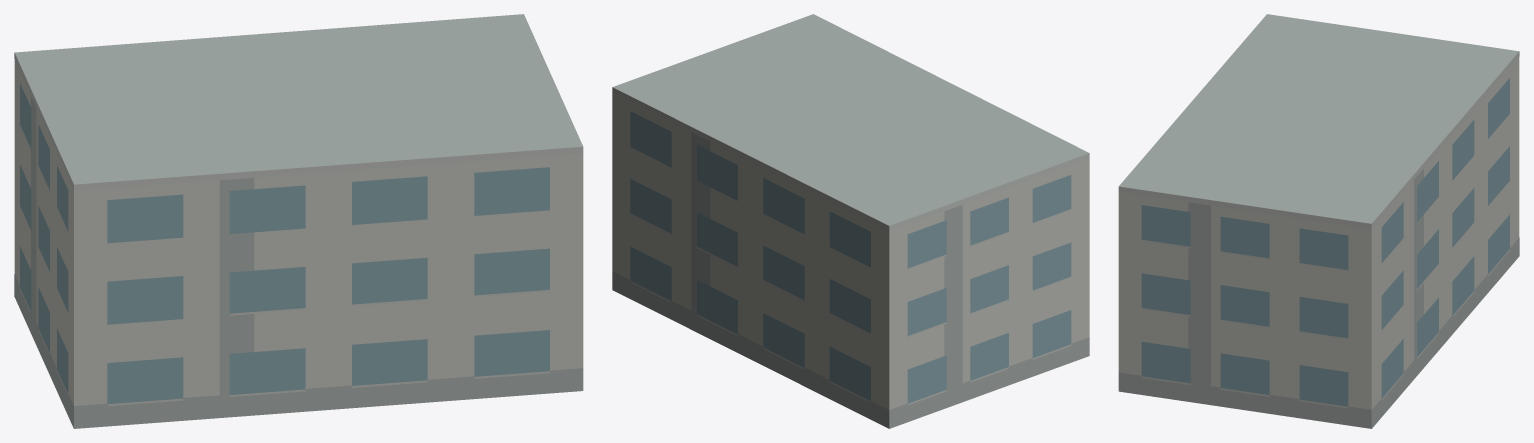
Rendered from survey-upis-33002737.glb.
The picture shows the model from 3 angles, left to right: view 1: azimuth 30°, elevation 25°; view 2: azimuth 150°, elevation 25°; view 3: azimuth 270°, elevation 25°; orthographic projection. The views are drawn at different scales.
Parts seen in each view (by area): view 1: survey-upis-33002737.tmp; view 2: survey-upis-33002737.tmp; view 3: survey-upis-33002737.tmp.
Part boxes in pixels (bbox=[...]): survey-upis-33002737.tmp: bbox=[14, 14, 583, 428]; survey-upis-33002737.tmp: bbox=[612, 14, 1089, 428]; survey-upis-33002737.tmp: bbox=[1118, 14, 1519, 428].
Bounding box in the file's own units: 20.09 × 9.15 × 16.22.
